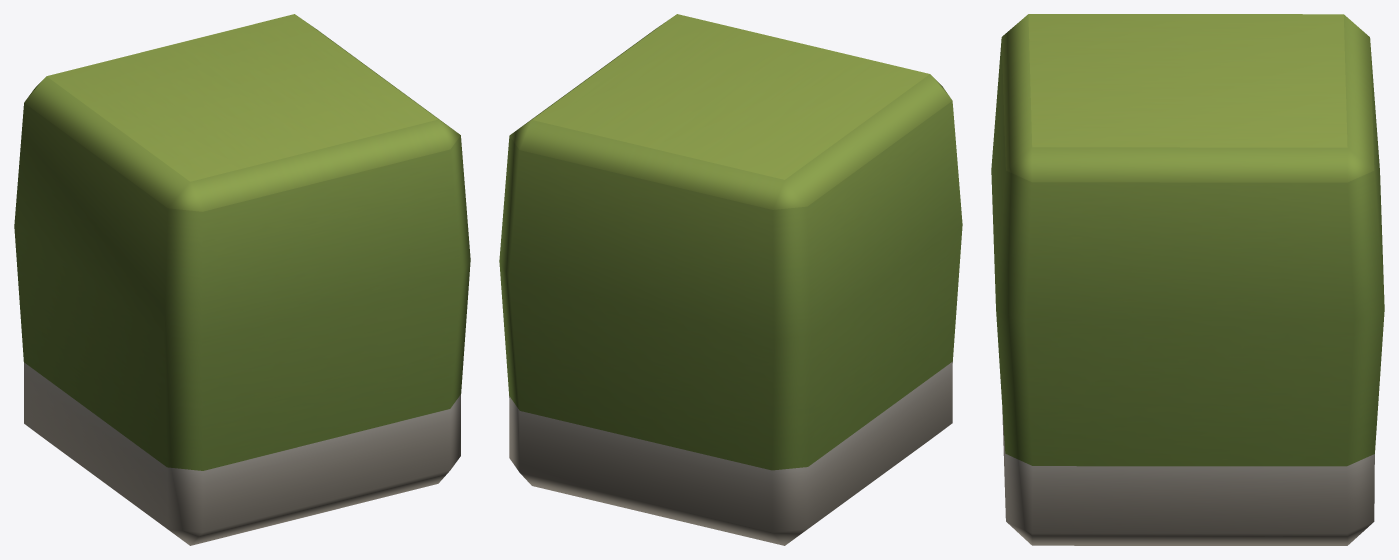
The model's file is hedge_rooftop_1x1_high.fbx.
3 views of the same model, side by side, from view 1: azimuth 30°, elevation 25°; view 2: azimuth 150°, elevation 25°; view 3: azimuth 270°, elevation 25° (orthographic). The views are drawn at different scales.
Parts seen in each view (by area): view 1: hedge_rooftop_1x1_high; view 2: hedge_rooftop_1x1_high; view 3: hedge_rooftop_1x1_high.
Boxes of the visible parts, x1=… form: hedge_rooftop_1x1_high: x1=14, y1=14, x2=470, y2=545; hedge_rooftop_1x1_high: x1=499, y1=14, x2=962, y2=545; hedge_rooftop_1x1_high: x1=991, y1=14, x2=1384, y2=545.
Size of the model in its own units: 111 by 125 by 112.
